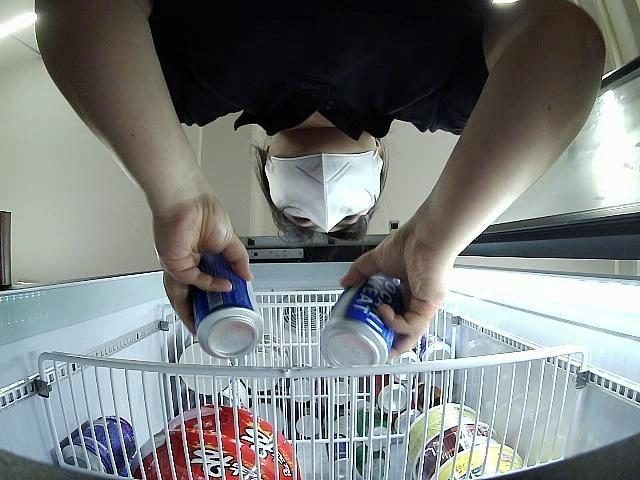13_pocariSweat: (319, 272, 404, 368), (187, 255, 264, 360)
